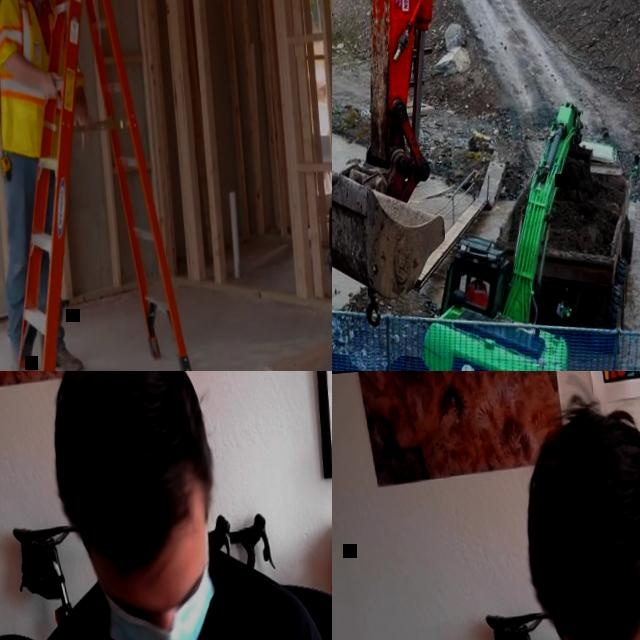Mask: (99, 570, 223, 640)
NO-Hardhat: (36, 371, 218, 566), (509, 390, 640, 640)
NO-Safety Vest: (37, 557, 308, 640)
Person: (0, 371, 332, 640), (442, 375, 640, 640), (0, 0, 92, 371), (466, 276, 489, 308)
Safety Vest: (0, 0, 85, 113), (469, 280, 487, 306)
machinery: (332, 0, 500, 371), (403, 101, 606, 371)
